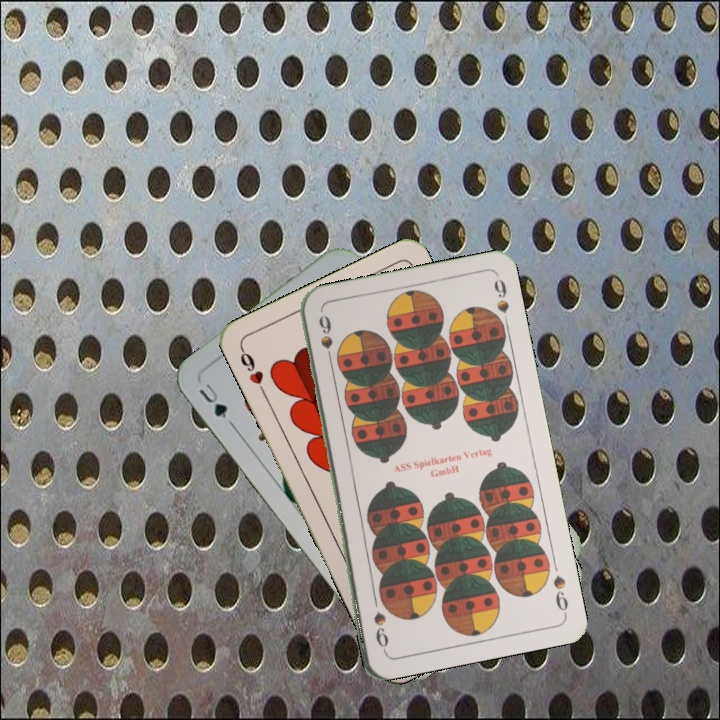GU: (194, 379, 236, 429)
H9: (236, 344, 270, 399)
S9: (315, 312, 336, 369), (549, 571, 571, 618)
